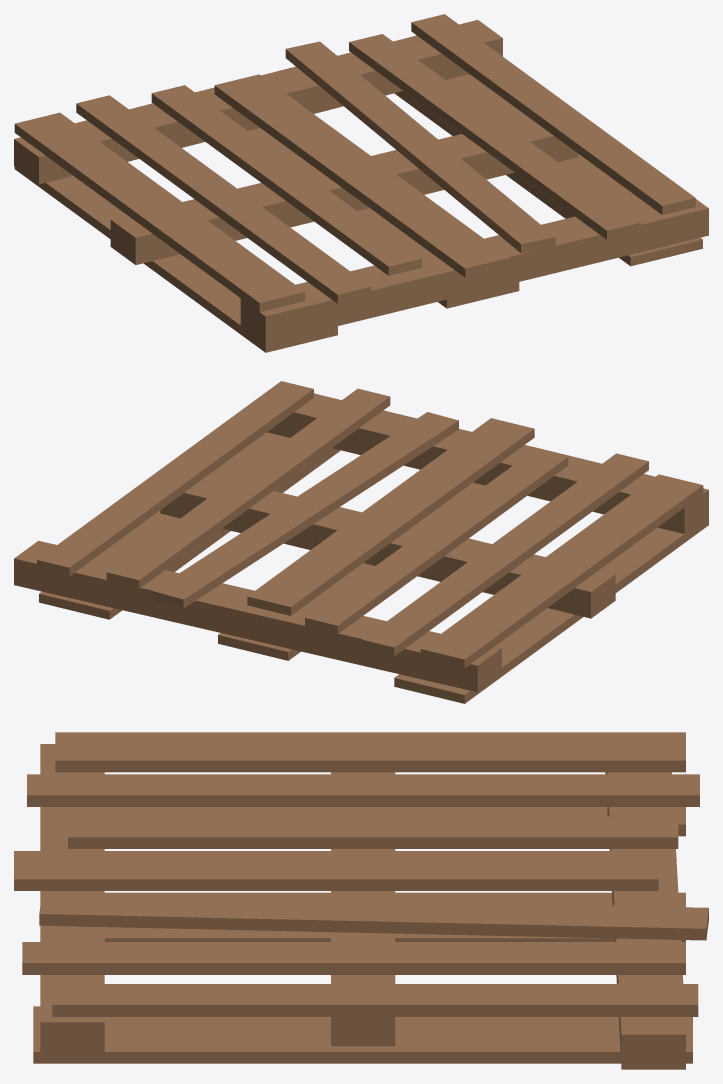
File: Pallet_Model_02.fbx
The picture shows the model from 3 angles, top to bottom: view 1: azimuth 30°, elevation 25°; view 2: azimuth 150°, elevation 25°; view 3: azimuth 270°, elevation 25°; orthographic projection. The views are drawn at different scales.
Parts seen in each view (by area): view 1: Pallet03_Com; view 2: Pallet03_Com; view 3: Pallet03_Com.
Boxes of the visible parts, x1,y1,x2,y2 form: Pallet03_Com: [14, 14, 708, 352]; Pallet03_Com: [14, 381, 708, 703]; Pallet03_Com: [14, 732, 708, 1069].
Bounding box in the file's own units: 55.21 × 5 × 53.8.
